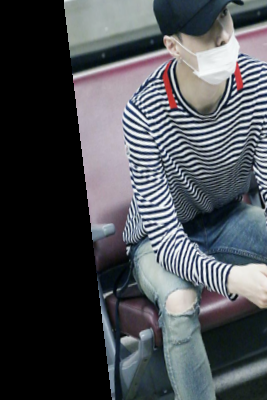mask_weared_incorrect: (139, 1, 257, 88)
